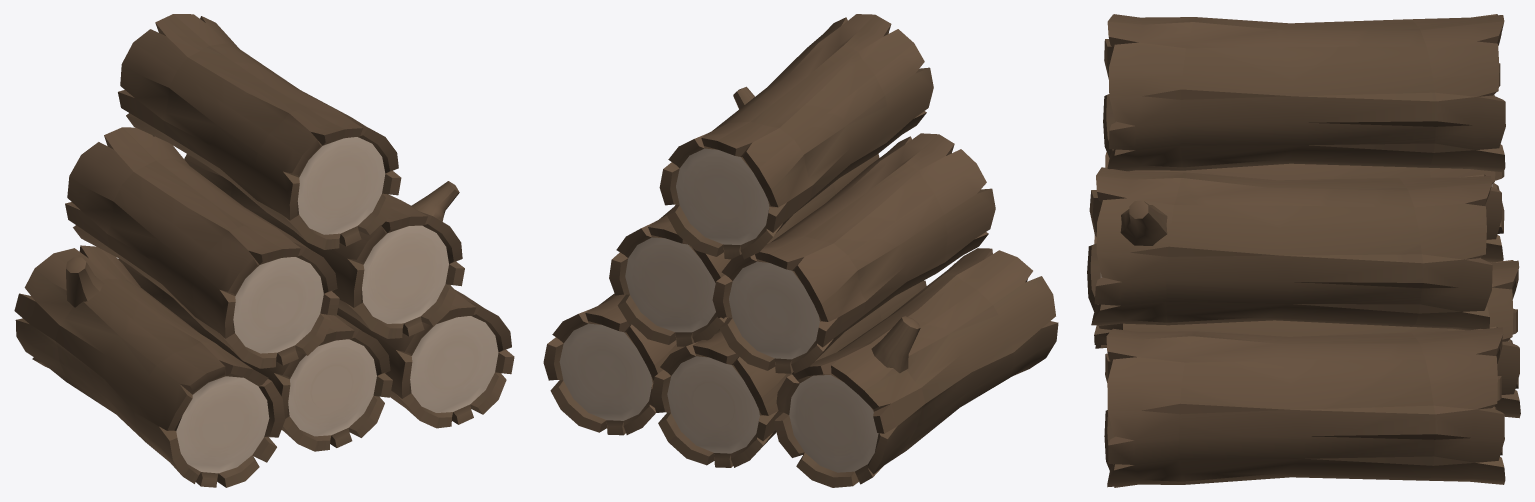
The model's file is Wood_Log_Stack.fbx.
The picture shows the model from 3 angles, left to right: view 1: azimuth 30°, elevation 25°; view 2: azimuth 150°, elevation 25°; view 3: azimuth 270°, elevation 25°; orthographic projection. The views are drawn at different scales.
Parts seen in each view (by area): view 1: Wood_Log_Stack; view 2: Wood_Log_Stack; view 3: Wood_Log_Stack.
Part boxes in pixels (box(x1,y1,x2,y2)): Wood_Log_Stack: box(14, 14, 514, 487); Wood_Log_Stack: box(543, 14, 1058, 487); Wood_Log_Stack: box(1087, 14, 1520, 487).
Bounding box in the file's own units: 168 × 150 × 150.
